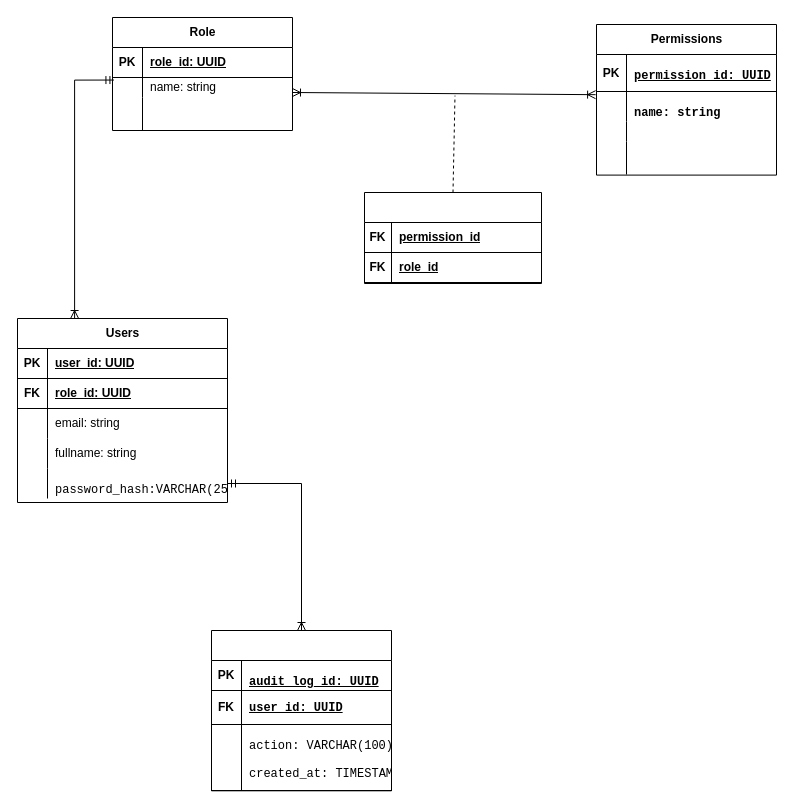
Some shapes in this 794 by 809 pixel diagram are drawn without their labels. Here are the shapes that lost their labels. From the top down, the box of each, then its label:
(364, 192, 542, 284): role_permisssion
(210, 630, 392, 791): Audit_logs
